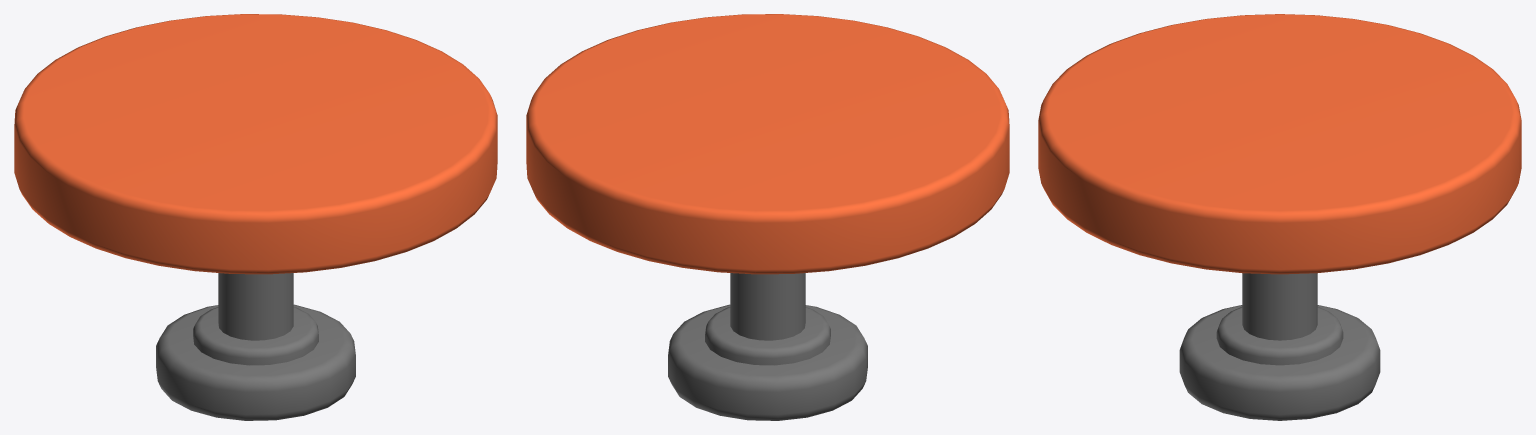
Rendered from Store_16_Table_1.glb.
3 views of the same model, side by side, from view 1: azimuth 30°, elevation 25°; view 2: azimuth 150°, elevation 25°; view 3: azimuth 270°, elevation 25° (orthographic).
Parts seen in each view (by area): view 1: Store_16_Table_1; view 2: Store_16_Table_1; view 3: Store_16_Table_1.
Boxes of the visible parts, x1,y1,x2,y2 form: Store_16_Table_1: [14, 14, 497, 420]; Store_16_Table_1: [526, 14, 1009, 420]; Store_16_Table_1: [1038, 14, 1521, 420].
Size of the model in its own units: 1.35 by 0.8337 by 1.35.
1 material, 1 textured.
